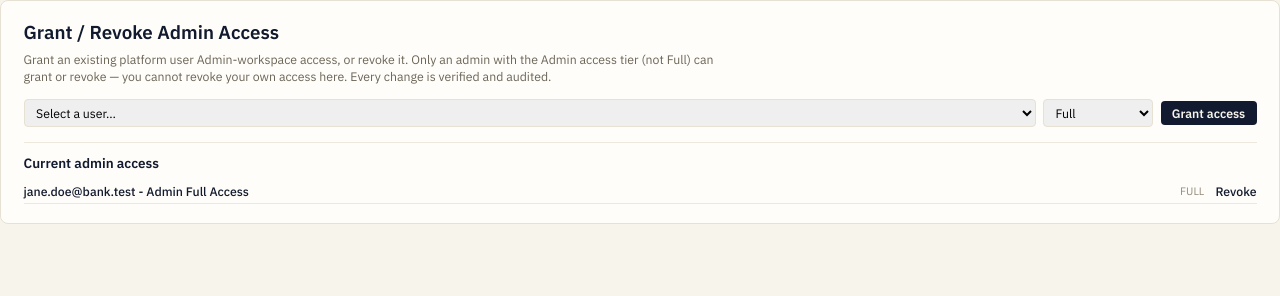
AdminAccessGrantPanel › grants access through the governed write for an Admin-tier admin
The width and height of the screenshot is (1280, 296).
Step 1. Select "Jane Doe (jane.doe@bank.test)" in the dropdown named "User to grant access to" → (530, 113), box [24,99,1036,127]
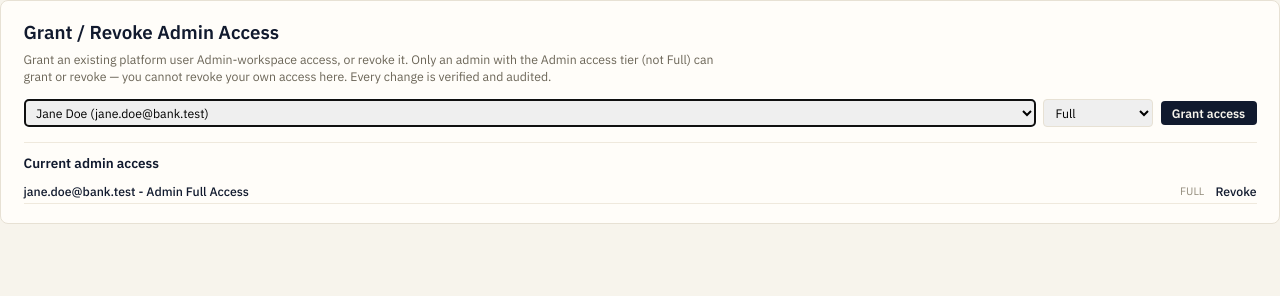
Step 2. Click the button "Grant access" → (1208, 113), box [1160,101,1256,125]
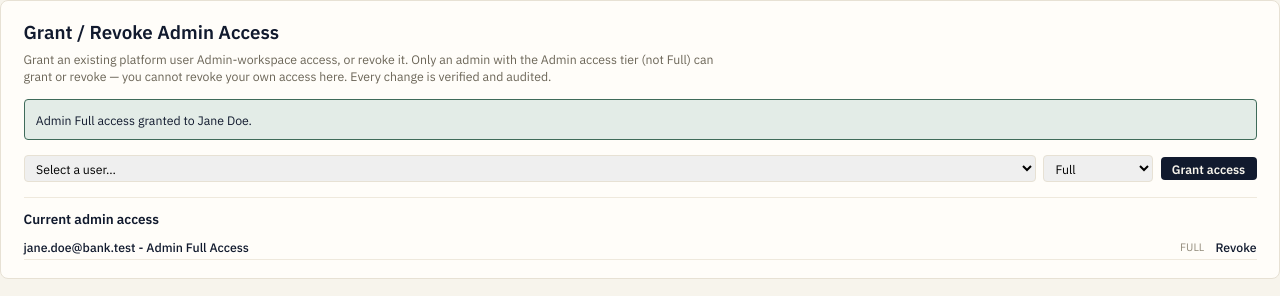
Result: the text "Admin Full access granted to Jane Doe." is shown at [24,99,1256,140]
